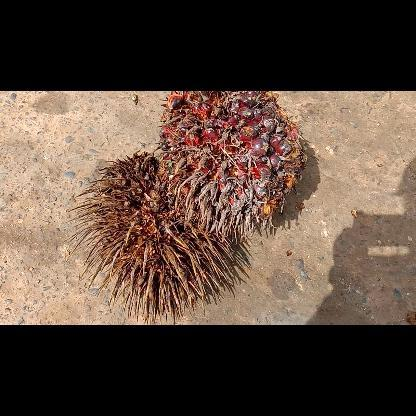Janjang kosong: (63, 150, 249, 324)
TBS masak: (154, 91, 307, 242)
